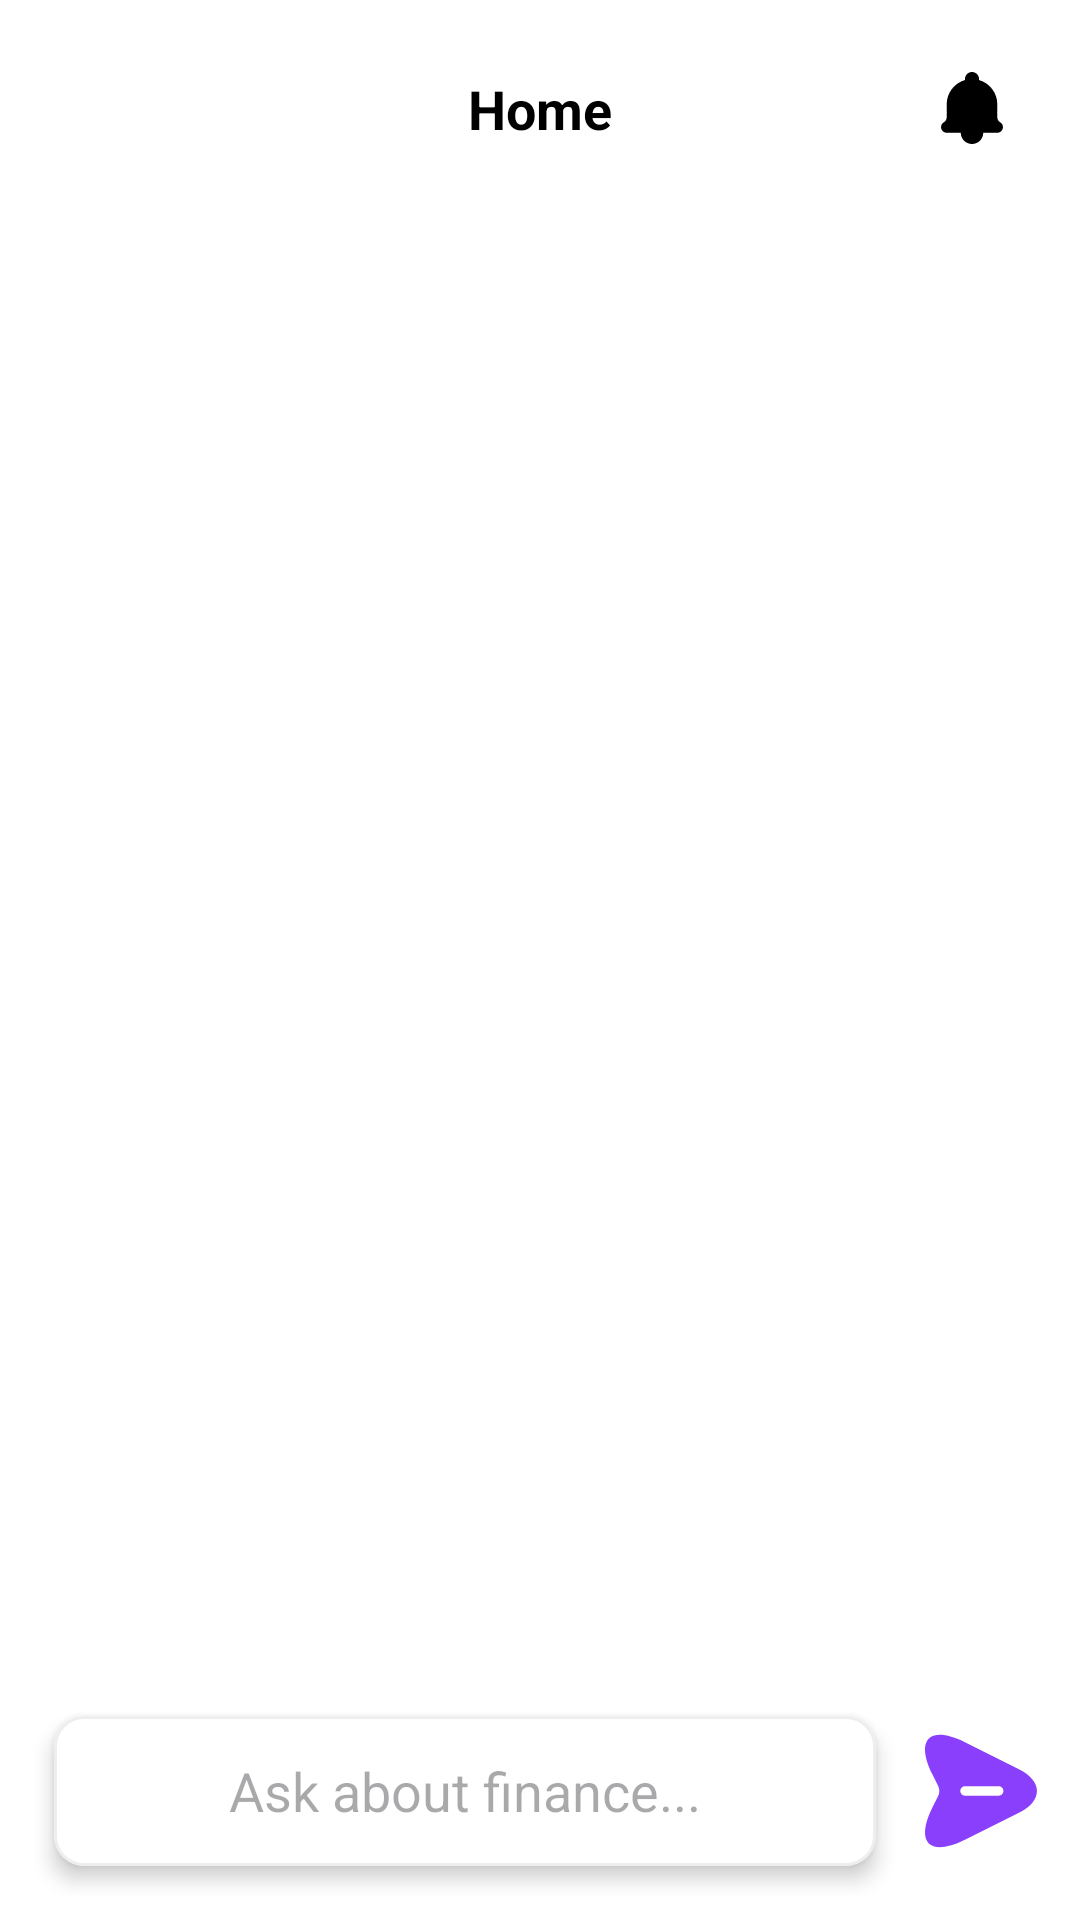

Named icons in this screenshot (1080 x 1920) and their centers, (x,y):
notifications: (972,108)
Send: (981,1791)
